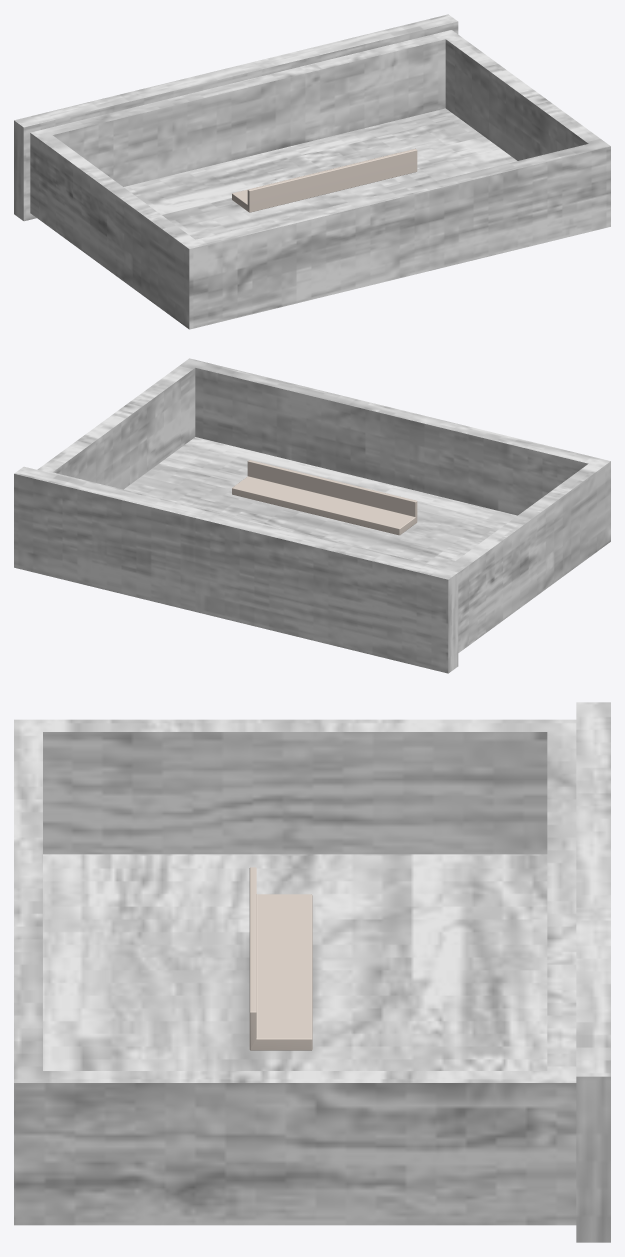
File: Drawer_19f1670e.obj
The picture shows the model from 3 angles, top to bottom: view 1: azimuth 30°, elevation 25°; view 2: azimuth 150°, elevation 25°; view 3: azimuth 270°, elevation 25°; orthographic projection. The views are drawn at different scales.
Visible parts, largest first — view 1: Mesh_01_a6ce8495, handle_3_178mm_01_37210c17; view 2: Mesh_01_a6ce8495, handle_3_178mm_01_37210c17; view 3: Mesh_01_a6ce8495, handle_3_178mm_01_37210c17.
Part boxes in pixels (bbox=[...]): Mesh_01_a6ce8495: bbox=[14, 14, 610, 329]; handle_3_178mm_01_37210c17: bbox=[232, 148, 417, 212]; Mesh_01_a6ce8495: bbox=[14, 358, 610, 673]; handle_3_178mm_01_37210c17: bbox=[232, 460, 417, 535]; Mesh_01_a6ce8495: bbox=[14, 702, 610, 1242]; handle_3_178mm_01_37210c17: bbox=[249, 867, 312, 1050].
Bounding box in the file's own units: 0.46 × 0.095 × 0.31.
